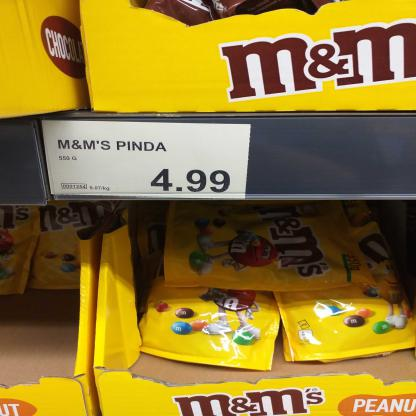prtg: (42, 121, 251, 201)
